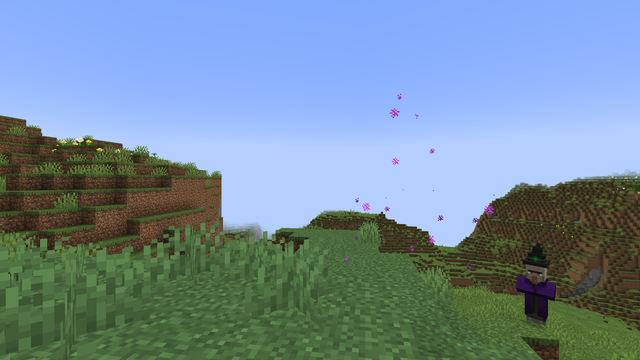sorcieres: (520, 258, 552, 327)
